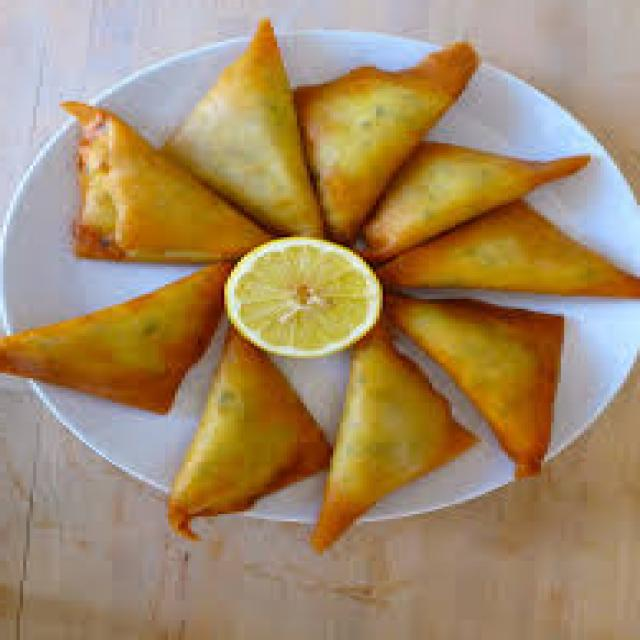brik: (134, 325, 333, 529), (251, 350, 459, 544), (157, 27, 317, 227), (446, 275, 576, 514), (333, 140, 589, 260), (2, 277, 228, 396), (35, 132, 241, 255), (366, 230, 640, 314)
